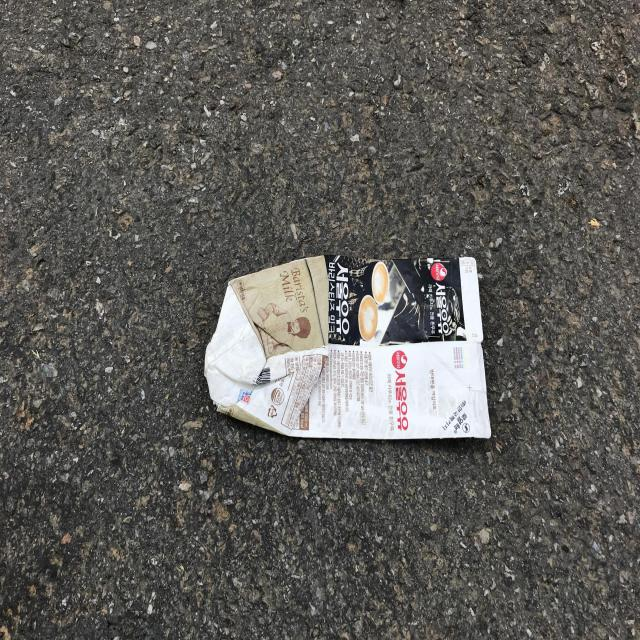paperpack: (205, 255, 491, 439)
